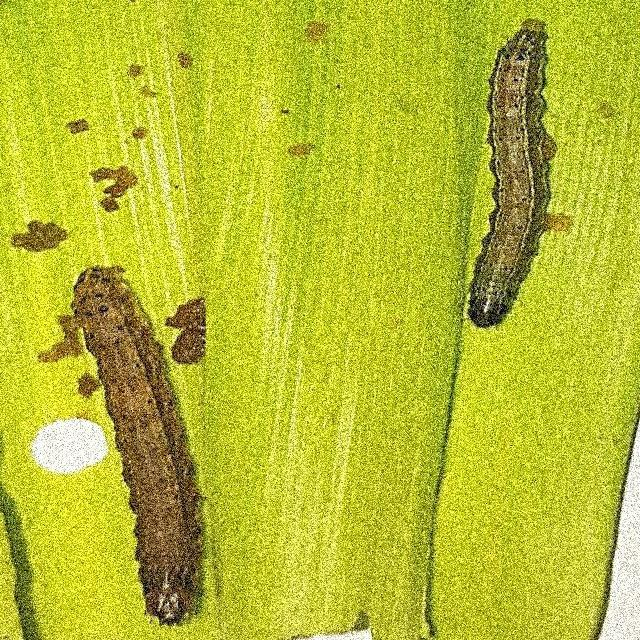Plaga: (70, 269, 205, 626), (465, 21, 560, 324)
